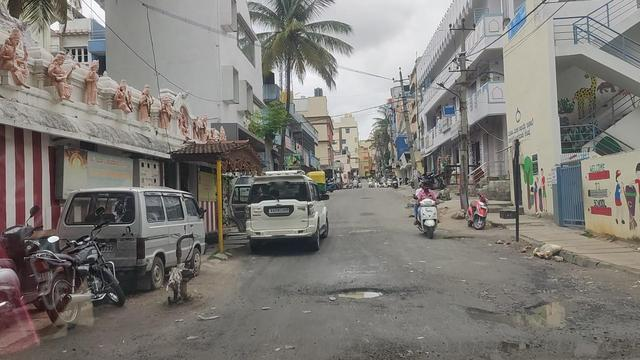LMV: (415, 181, 439, 237)
RoadDamages: (522, 292, 596, 336), (325, 280, 409, 308), (352, 334, 417, 360), (495, 340, 542, 360), (448, 227, 475, 242)
